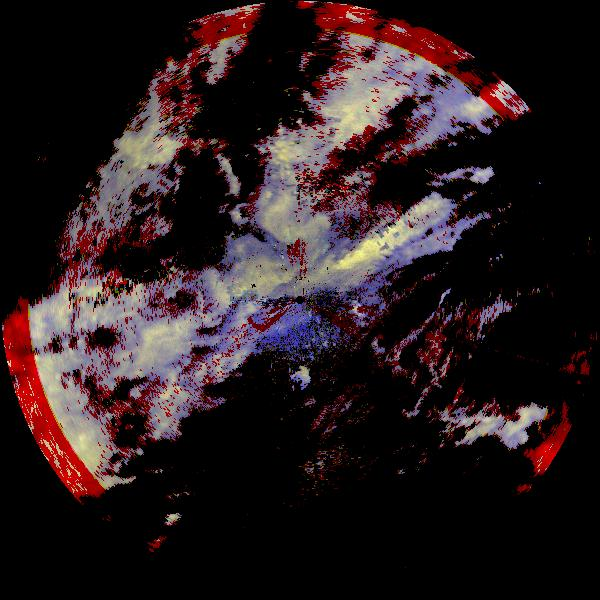roost: (287, 364, 314, 391), (343, 299, 370, 326), (321, 339, 333, 351)
